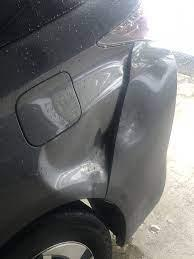quaterpanel-dent: (0, 48, 115, 258)
rear-bumper-dent: (115, 27, 179, 248)
